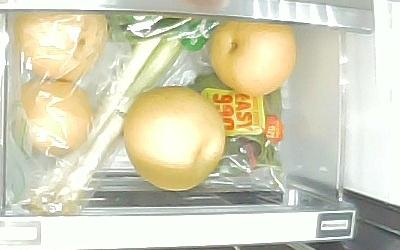pear: (121, 86, 227, 190), (208, 19, 297, 97)
pear_vinyl: (15, 13, 107, 80), (18, 80, 93, 156)
